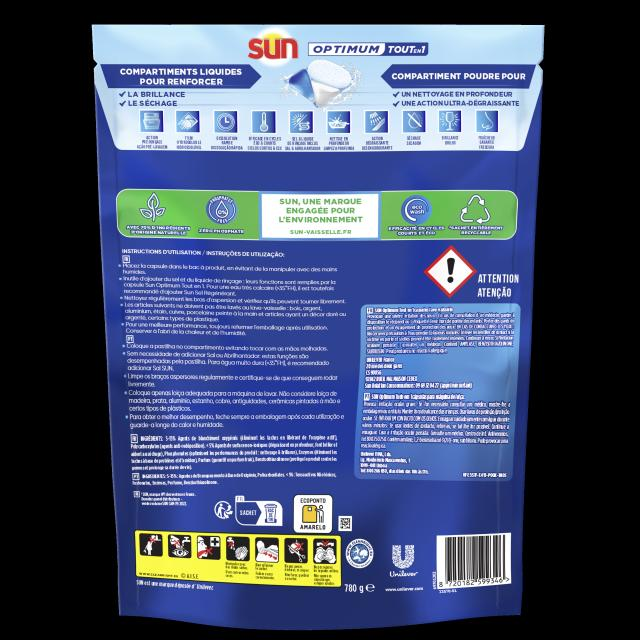GHS_Symbol_EXCLAMATION_MARK: (423, 244, 478, 298)
